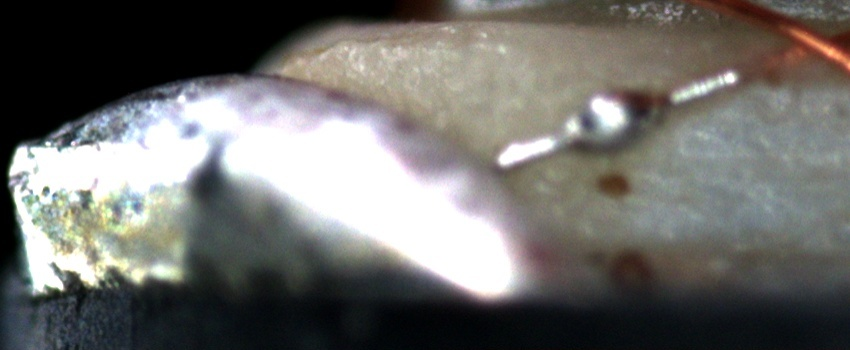DL: (677, 138, 850, 184), (737, 77, 850, 111)
TB: (568, 88, 665, 159)
TS: (496, 69, 739, 168)
TTCW: (495, 44, 801, 170)
